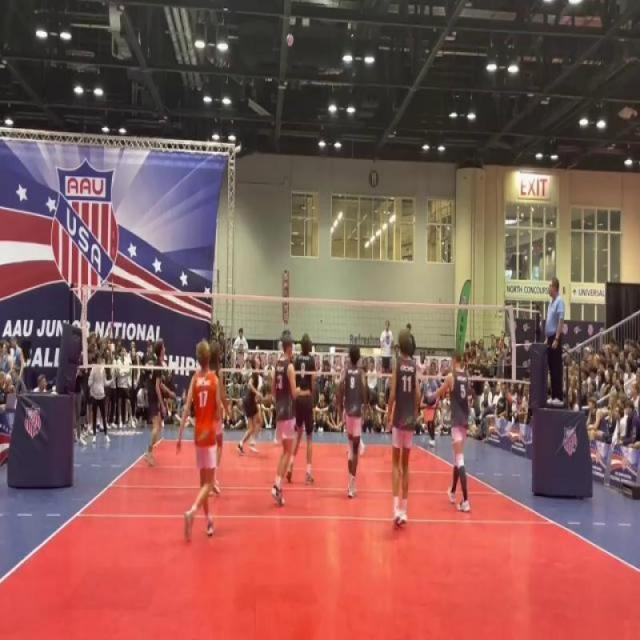volleyball: (286, 32, 294, 48)
